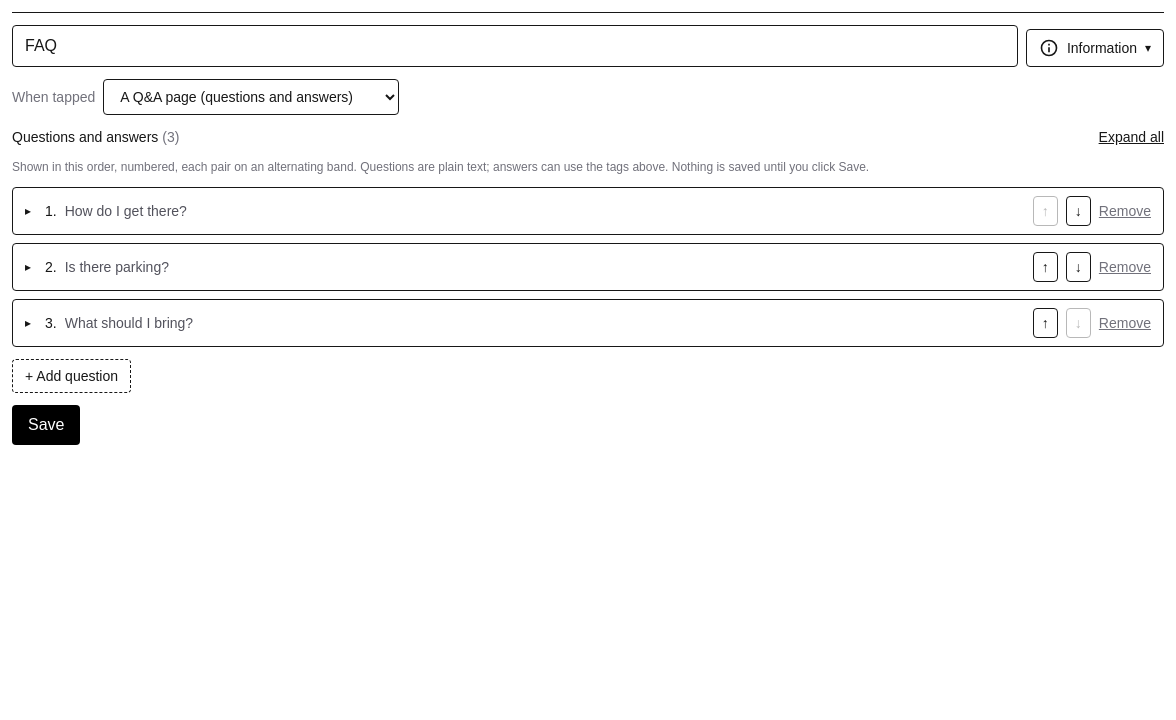
Test: question containers › adds a new, open container at the end
Click the button "+ Add question": (72, 376) top-left (12, 359), bottom-right (131, 393)
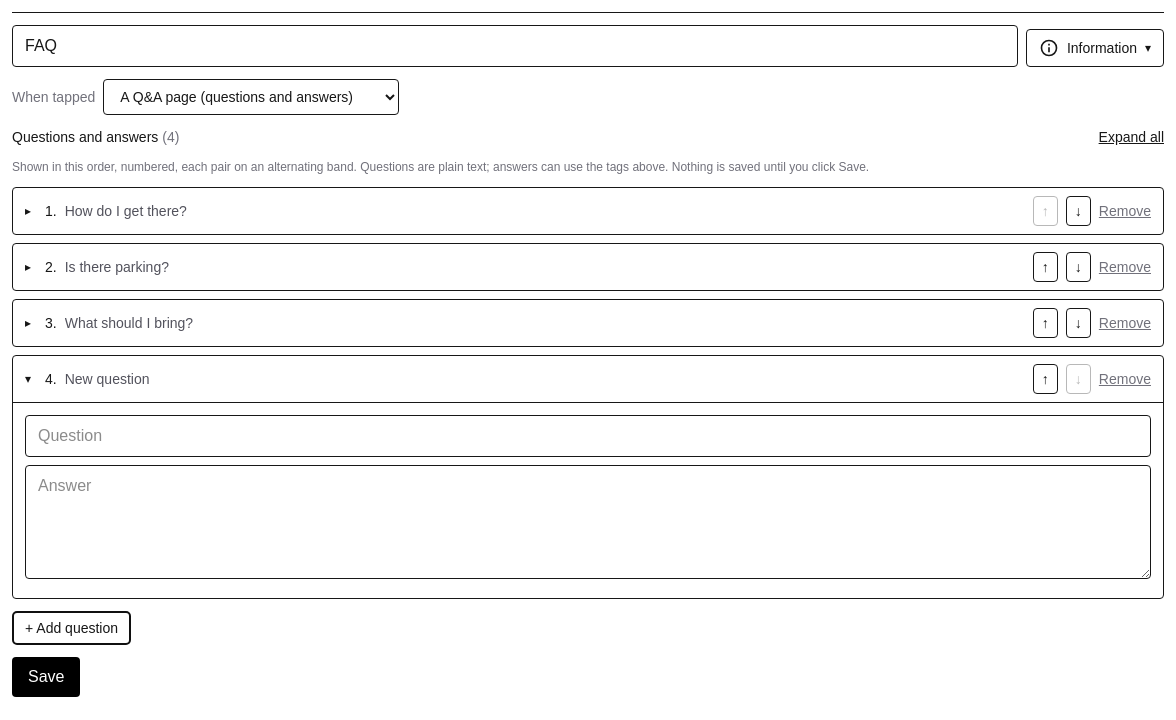
Check: the number of list items is 4, box top-left (12, 187), bottom-right (1164, 235); top-left (12, 243), bottom-right (1164, 291); top-left (12, 299), bottom-right (1164, 347); top-left (12, 355), bottom-right (1164, 599)
